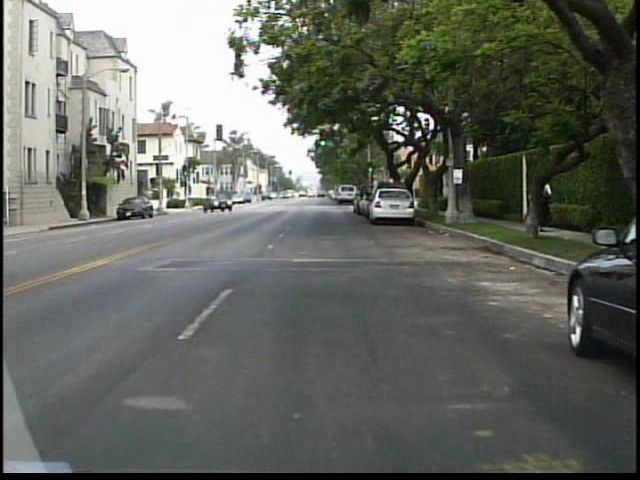person: (523, 169, 555, 241)
